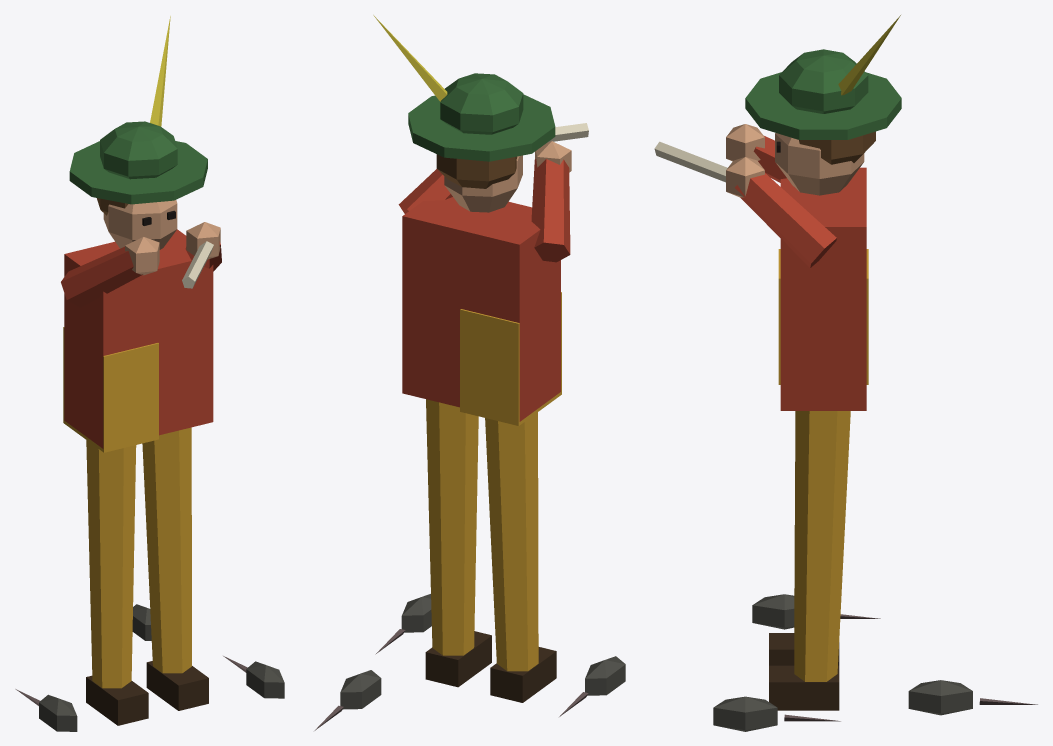
File: rattenfaenger.glb
3 views of the same model, side by side, from view 1: azimuth 30°, elevation 25°; view 2: azimuth 150°, elevation 25°; view 3: azimuth 270°, elevation 25° (orthographic). The views are drawn at different scales.
Bounding box in the file's own units: 0.6983 × 2 × 0.9828.
Materials: 1 (1 with a texture image).
